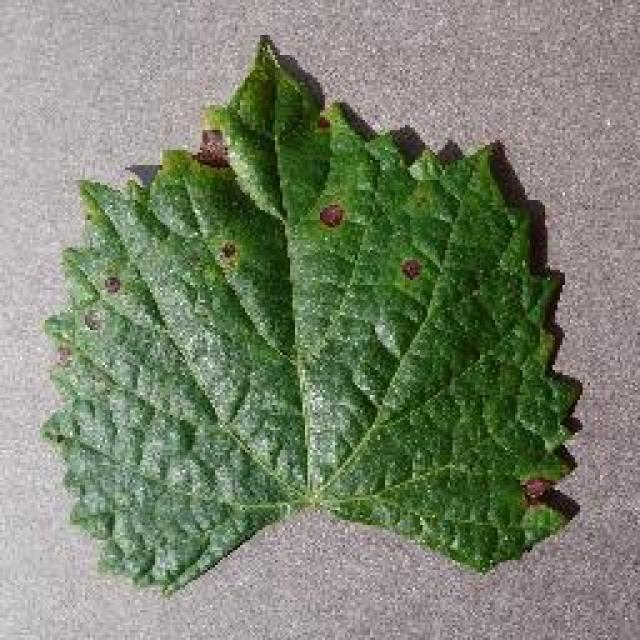Grape___Black_rot: (27, 28, 590, 603)
